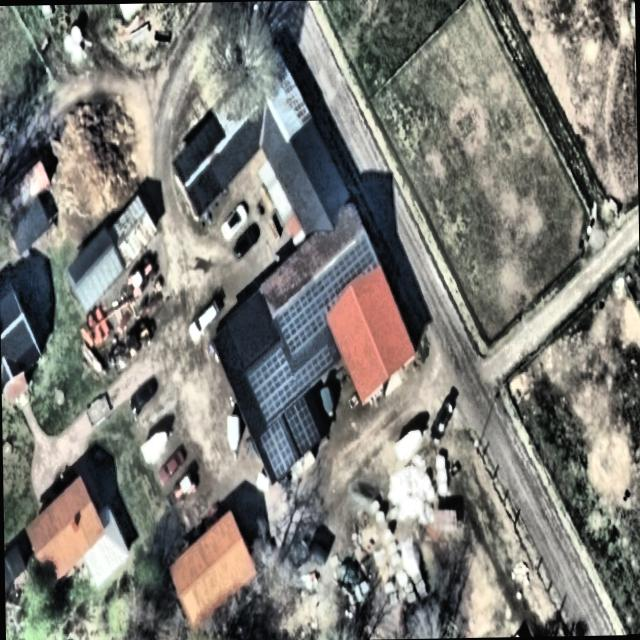roof_pv: (313, 235, 376, 302), (246, 343, 298, 418), (273, 280, 331, 340), (294, 339, 336, 388), (260, 427, 296, 481), (288, 393, 320, 452)
